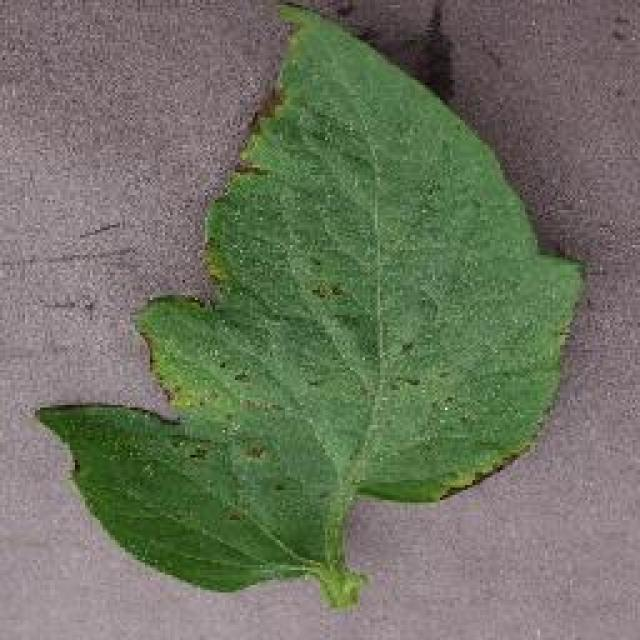Tomato___Bacterial_spot: (26, 3, 590, 611)
